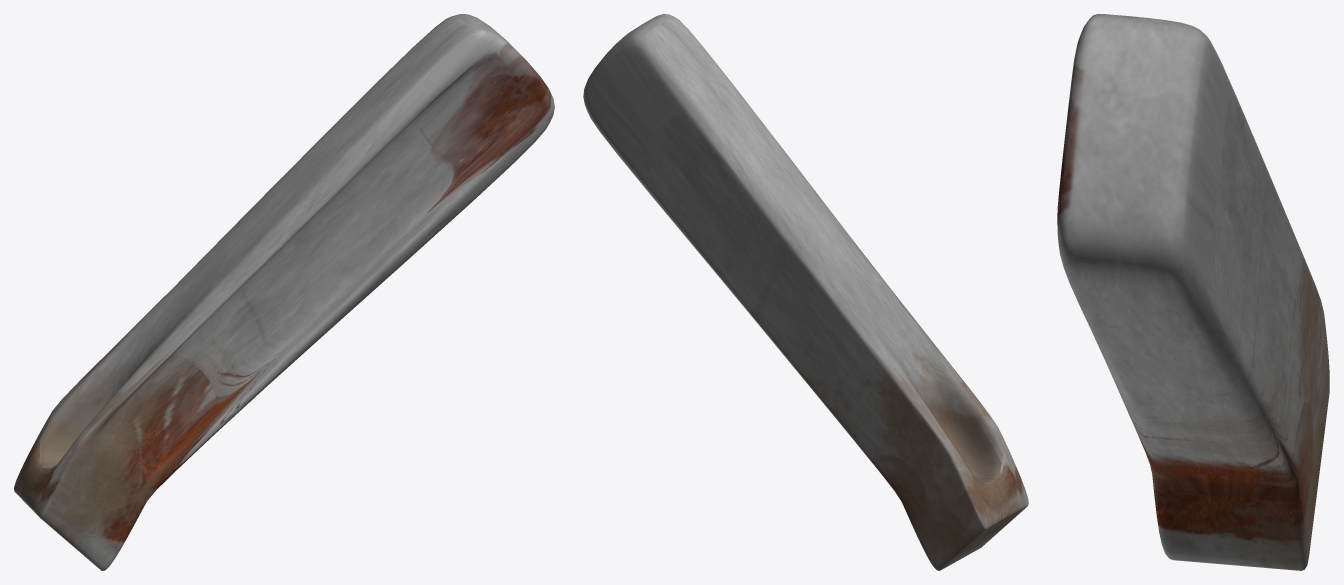
File: perrorobot_brazoizq.glb
3 renders of one model, left to right at view 1: azimuth 30°, elevation 25°; view 2: azimuth 150°, elevation 25°; view 3: azimuth 270°, elevation 25°, orthographic. The views are drawn at different scales.
Visible parts, largest first — view 1: pasted__pCube5_legmetal_0; view 2: pasted__pCube5_legmetal_0; view 3: pasted__pCube5_legmetal_0.
Part boxes in pixels (x1,y1,x2,y2): pasted__pCube5_legmetal_0: (14, 14, 554, 570); pasted__pCube5_legmetal_0: (583, 14, 1028, 570); pasted__pCube5_legmetal_0: (1057, 14, 1329, 570).
Size of the model in its own units: 0.4284 by 0.3972 by 0.1142.
Materials: 1 (1 with a texture image).
